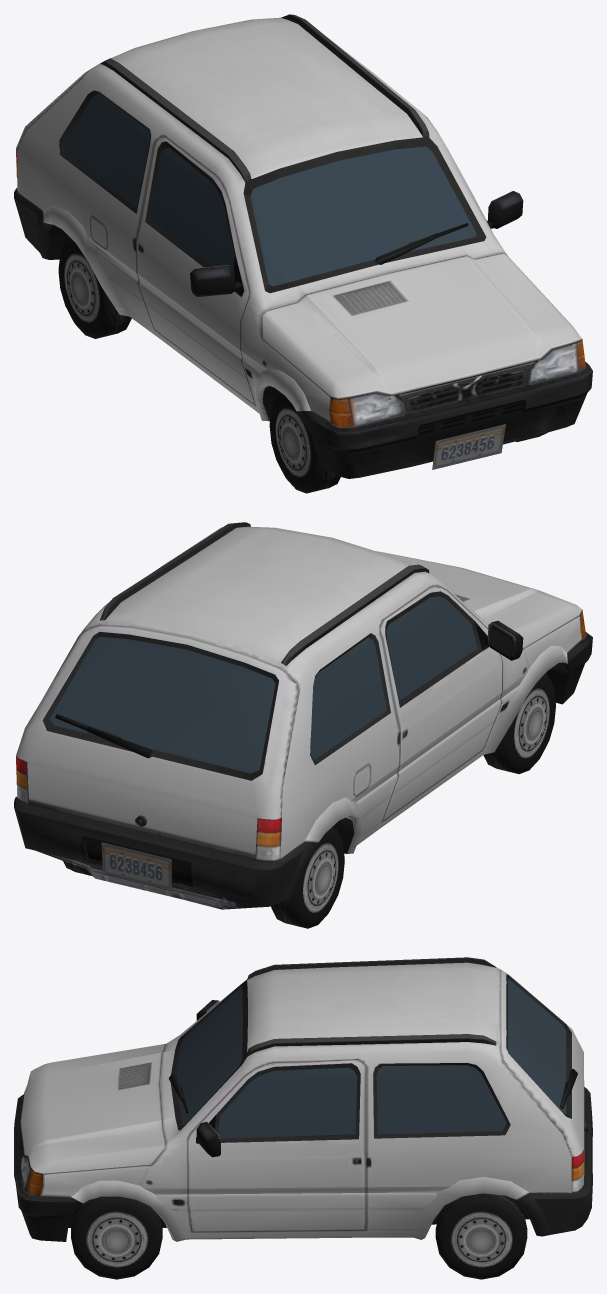
Rendered from CarB.obj.
3 renders of one model, top to bottom at view 1: azimuth 30°, elevation 25°; view 2: azimuth 150°, elevation 25°; view 3: azimuth 270°, elevation 25°, orthographic. The views are drawn at different scales.
Parts seen in each view (by area): view 1: ct2_03_n1_obj_BGcarB_000; view 2: ct2_03_n1_obj_BGcarB_000; view 3: ct2_03_n1_obj_BGcarB_000.
Part boxes in pixels (left/top/right/bottom): ct2_03_n1_obj_BGcarB_000: left=14, top=14, right=592, bottom=493; ct2_03_n1_obj_BGcarB_000: left=14, top=522, right=592, bottom=928; ct2_03_n1_obj_BGcarB_000: left=14, top=957, right=592, bottom=1279.
Bounding box in the file's own units: 2.58 × 2.08 × 4.54.
